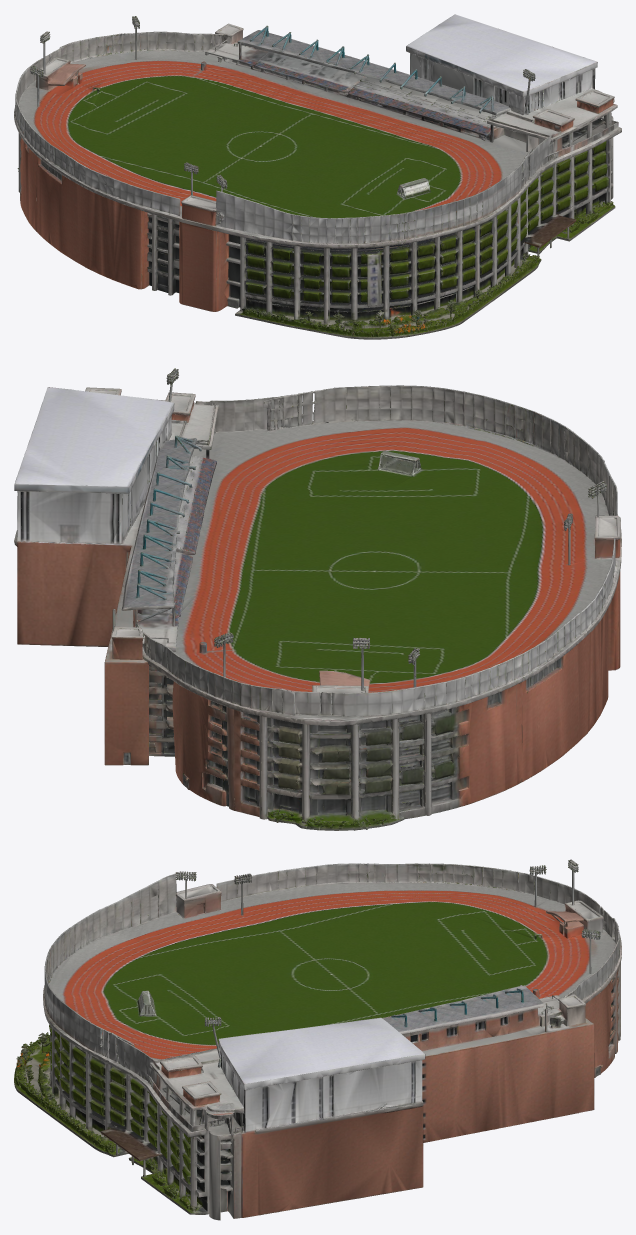
Rendered from arena.glb.
3 renders of one model, top to bottom at view 1: azimuth 30°, elevation 25°; view 2: azimuth 150°, elevation 25°; view 3: azimuth 270°, elevation 25°, orthographic. The views are drawn at different scales.
Visible parts, largest first — view 1: Meshy_AI_TAR_UMT_Arena_0817044716_texture.001; view 2: Meshy_AI_TAR_UMT_Arena_0817044716_texture.001; view 3: Meshy_AI_TAR_UMT_Arena_0817044716_texture.001.
Part boxes in pixels (x1,y1,x2,y2): Meshy_AI_TAR_UMT_Arena_0817044716_texture.001: [14, 14, 621, 339]; Meshy_AI_TAR_UMT_Arena_0817044716_texture.001: [14, 368, 621, 830]; Meshy_AI_TAR_UMT_Arena_0817044716_texture.001: [14, 859, 621, 1220].
Size of the model in its own units: 1.83 by 0.5406 by 1.89.
Materials: 1 (1 with a texture image).
